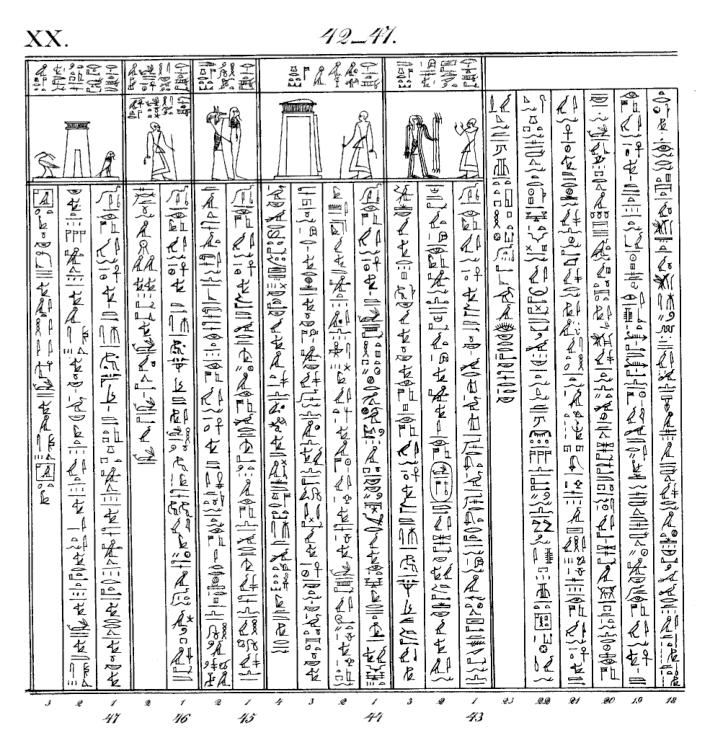circle: (425, 458, 458, 502)
